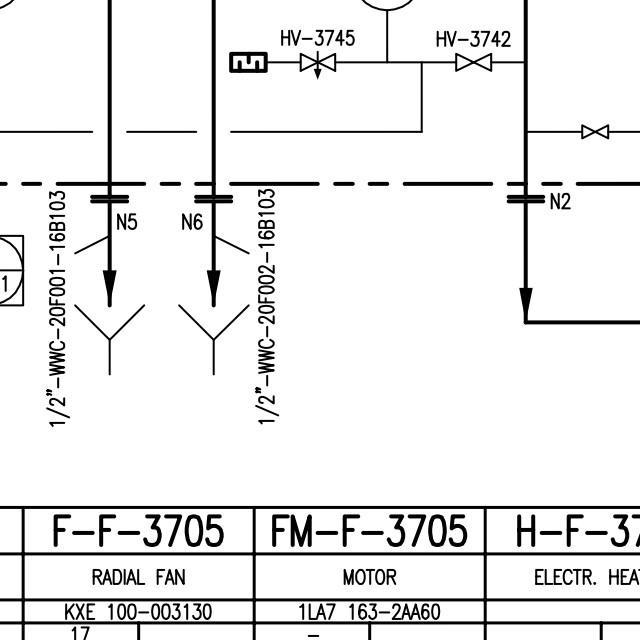GV: (293, 49, 339, 78), (452, 50, 494, 72), (576, 122, 612, 143)
